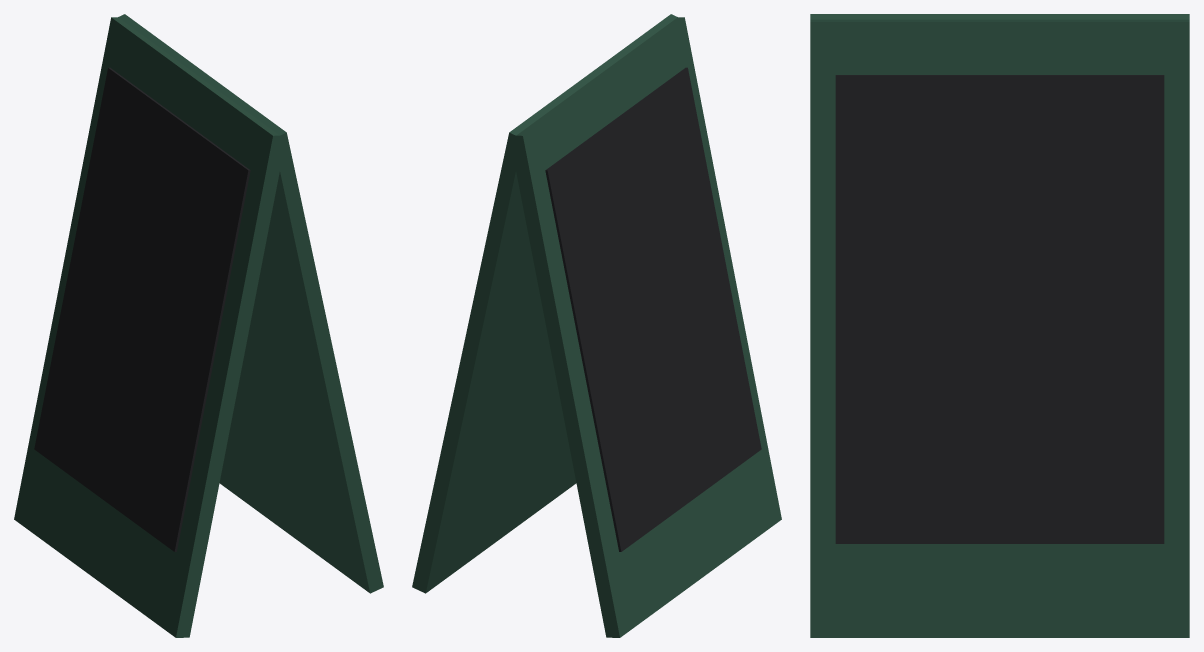
Rendered from SM_Prop_cafe_aboard_1_LOD1.glb.
3 renders of one model, left to right at view 1: azimuth 30°, elevation 25°; view 2: azimuth 150°, elevation 25°; view 3: azimuth 270°, elevation 25°, orthographic. The views are drawn at different scales.
Parts seen in each view (by area): view 1: SM_Prop_cafe_aboard_1_LOD1; view 2: SM_Prop_cafe_aboard_1_LOD1; view 3: SM_Prop_cafe_aboard_1_LOD1.
Part boxes in pixels (x1,y1,x2,y2): SM_Prop_cafe_aboard_1_LOD1: (14, 14, 383, 637); SM_Prop_cafe_aboard_1_LOD1: (412, 14, 781, 637); SM_Prop_cafe_aboard_1_LOD1: (810, 14, 1189, 637).
Size of the model in its own units: 0.4452 by 0.9844 by 0.6.
